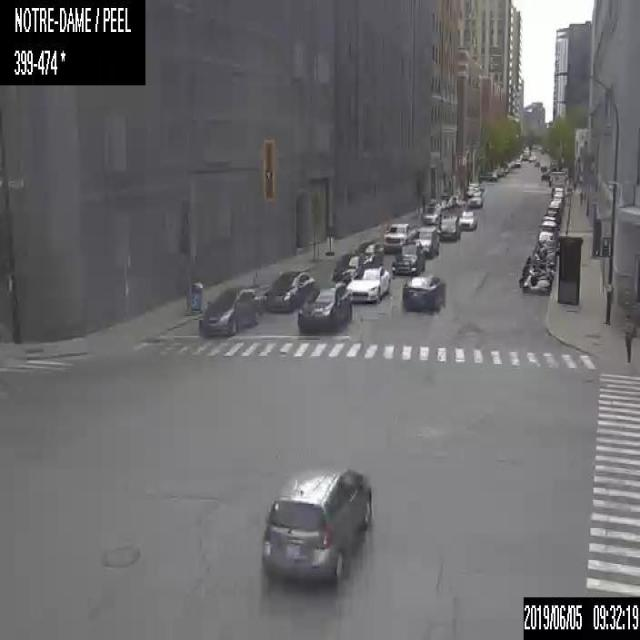vehicle: (259, 468, 373, 585), (198, 283, 261, 337), (296, 280, 352, 334), (262, 270, 316, 316), (400, 274, 444, 313), (346, 265, 390, 304), (332, 253, 370, 281), (391, 244, 424, 275), (382, 222, 415, 250), (410, 225, 438, 258), (352, 240, 383, 264), (523, 267, 549, 293), (436, 212, 459, 241), (518, 269, 554, 285), (522, 254, 555, 271), (534, 241, 562, 258), (538, 220, 560, 240), (421, 203, 440, 224), (458, 210, 476, 229), (542, 210, 561, 223), (467, 192, 482, 208), (546, 202, 561, 213), (522, 145, 530, 159), (513, 157, 520, 165)
